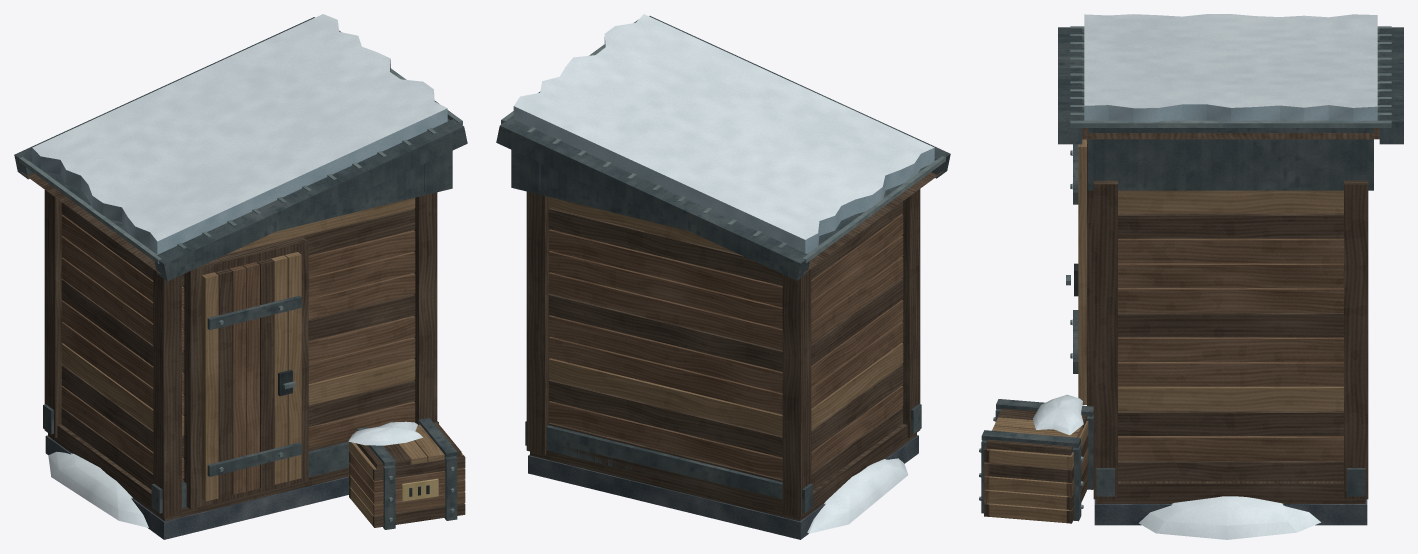
The model's file is 11_Storage_Shed.obj.
3 views of the same model, side by side, from view 1: azimuth 30°, elevation 25°; view 2: azimuth 150°, elevation 25°; view 3: azimuth 270°, elevation 25° (orthographic). The views are drawn at different scales.
Parts seen in each view (by area): view 1: 11_Storage_Shed; view 2: 11_Storage_Shed; view 3: 11_Storage_Shed.
Part boxes in pixels (left/top/right/bottom): 11_Storage_Shed: left=14, top=14, right=467, bottom=539; 11_Storage_Shed: left=496, top=14, right=950, bottom=539; 11_Storage_Shed: left=979, top=14, right=1403, bottom=539.
Size of the model in its own units: 2.29 by 2.54 by 2.27.
11 materials, 11 textured.
